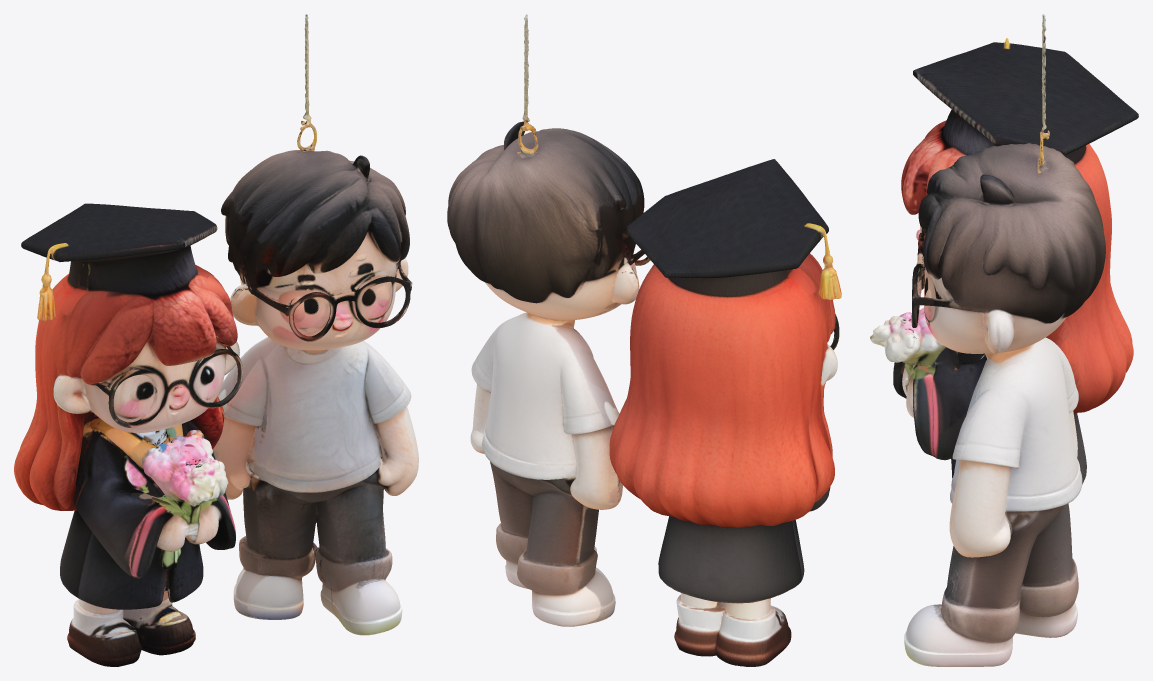
Rendered from figure.glb.
3 renders of one model, left to right at view 1: azimuth 30°, elevation 25°; view 2: azimuth 150°, elevation 25°; view 3: azimuth 270°, elevation 25°, orthographic. The views are drawn at different scales.
Visible parts, largest first — view 1: model; view 2: model; view 3: model.
Part boxes in pixels (left/top/right/bottom): model: left=14, top=14, right=418, bottom=666; model: left=447, top=14, right=841, bottom=666; model: left=870, top=14, right=1138, bottom=666.
Bounding box in the file's own units: 1.26 × 1.9 × 0.7322.
Materials: 1 (1 with a texture image).
